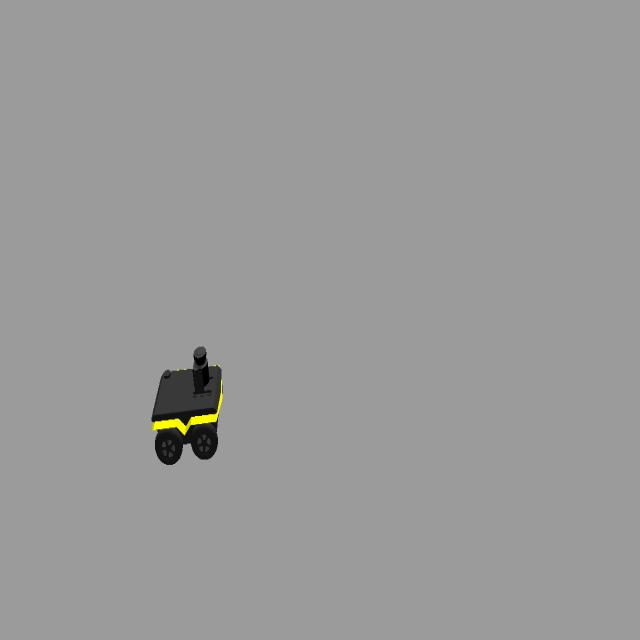jackal: (152, 346, 222, 466)
